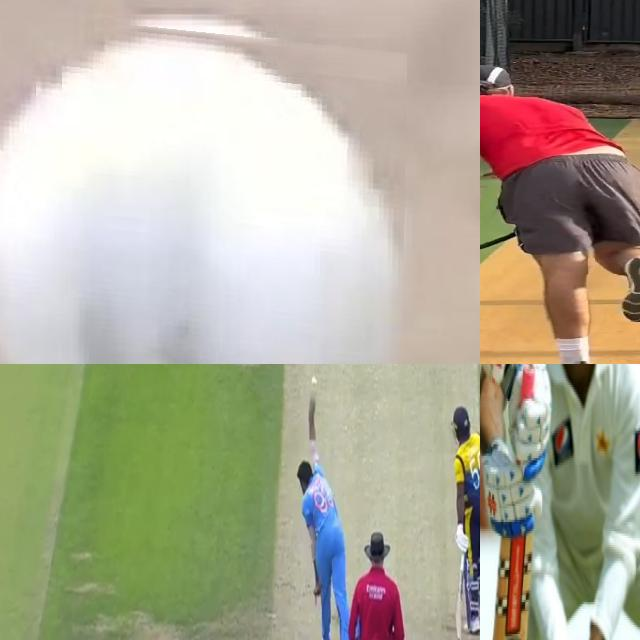Cricket ball: (0, 8, 407, 364), (310, 374, 319, 390)
